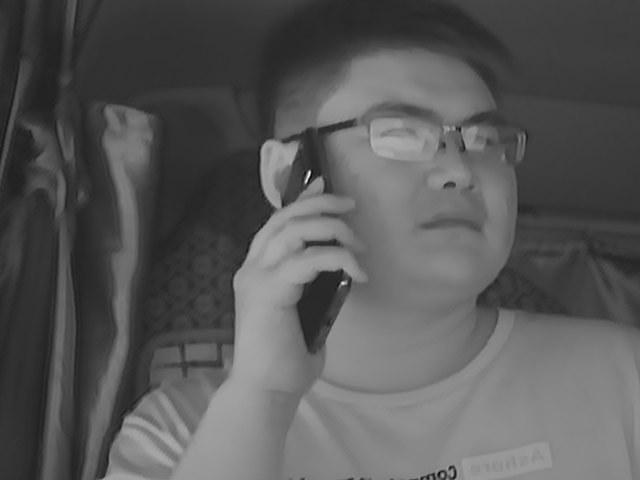hand: (232, 182, 354, 382)
